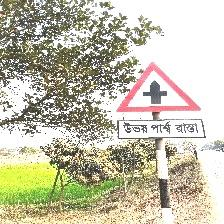Crossroad: (115, 63, 205, 139)
